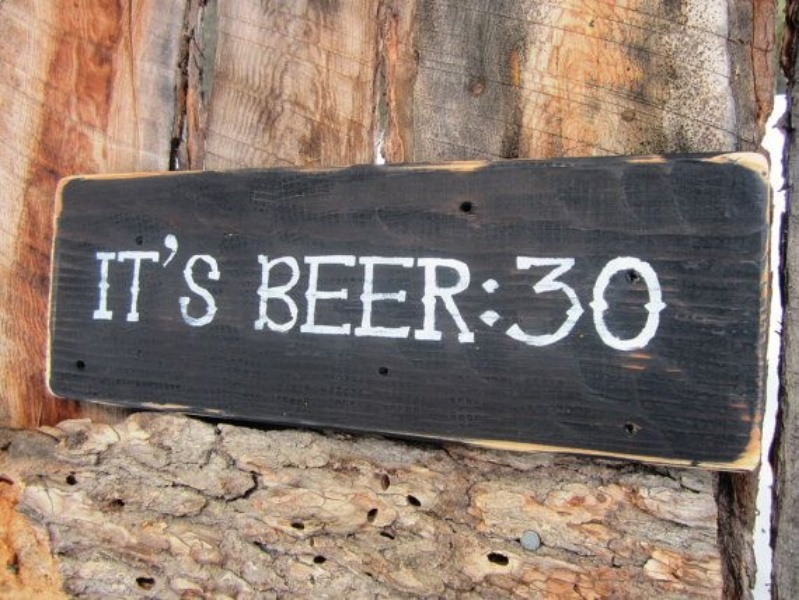text: (257, 251, 272, 358), (273, 251, 288, 358), (289, 251, 304, 358), (305, 251, 320, 358), (321, 251, 336, 358), (337, 251, 352, 358), (353, 251, 368, 358), (369, 251, 384, 358), (385, 251, 400, 358), (401, 251, 416, 358), (417, 251, 432, 358), (433, 251, 448, 358), (449, 251, 464, 358), (465, 251, 480, 358), (481, 251, 496, 358), (497, 251, 512, 358), (513, 251, 528, 358), (529, 251, 544, 358), (545, 251, 560, 358), (561, 251, 576, 358), (577, 251, 592, 358), (593, 251, 608, 358), (609, 251, 624, 358), (625, 251, 640, 358), (641, 251, 656, 358), (97, 230, 112, 329), (113, 230, 128, 329), (129, 230, 144, 329), (145, 230, 160, 329), (161, 230, 176, 329), (177, 230, 192, 329), (193, 230, 208, 329), (209, 230, 222, 329), (657, 251, 669, 358), (94, 230, 96, 329)
